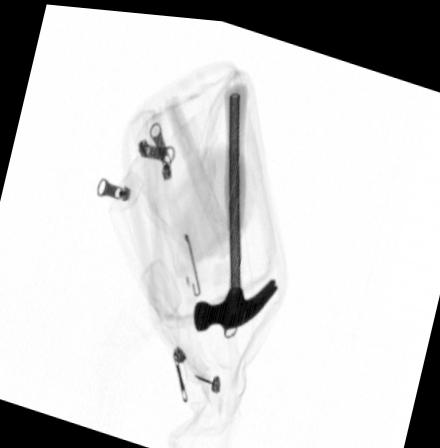Hammer: (192, 77, 279, 328)
